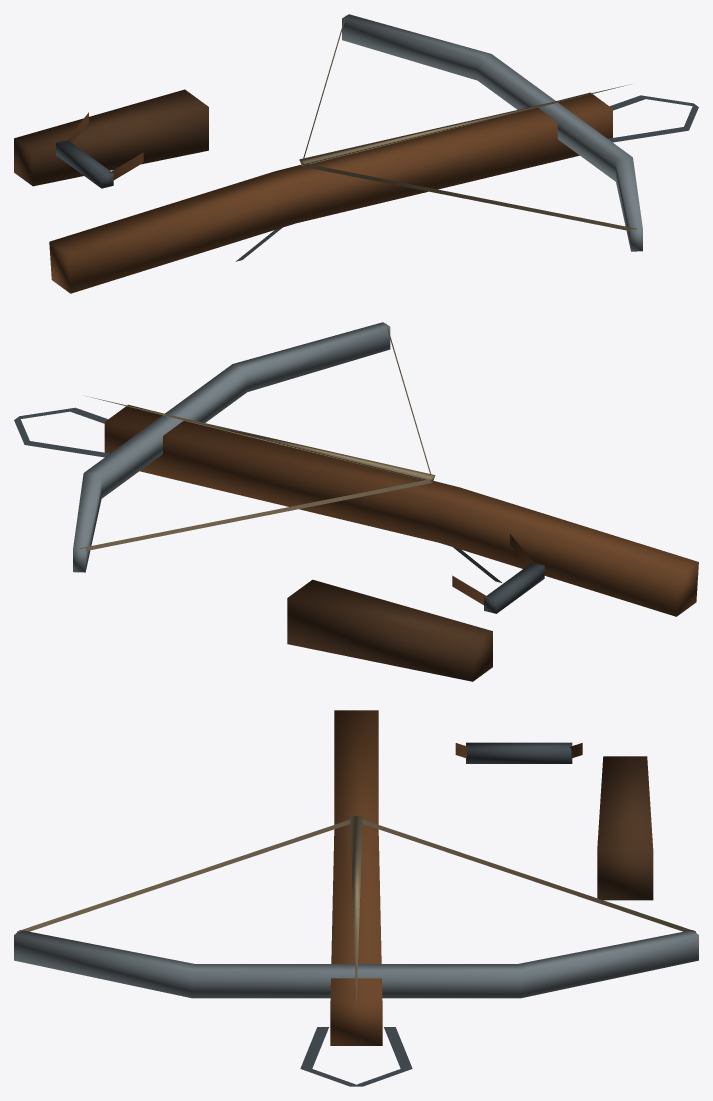
Rendered from crossbow_lod1.glb.
3 views of the same model, one above another, from view 1: azimuth 30°, elevation 25°; view 2: azimuth 150°, elevation 25°; view 3: azimuth 270°, elevation 25° (orthographic). The views are drawn at different scales.
Visible parts, largest first — view 1: CrossbowMesh.001; view 2: CrossbowMesh.001; view 3: CrossbowMesh.001.
Boxes of the visible parts, <box> form: CrossbowMesh.001: <box>14,14,698,293</box>; CrossbowMesh.001: <box>14,322,698,681</box>; CrossbowMesh.001: <box>14,710,698,1086</box>.
Size of the model in its own units: 1.21 by 0.1645 by 0.9686.
